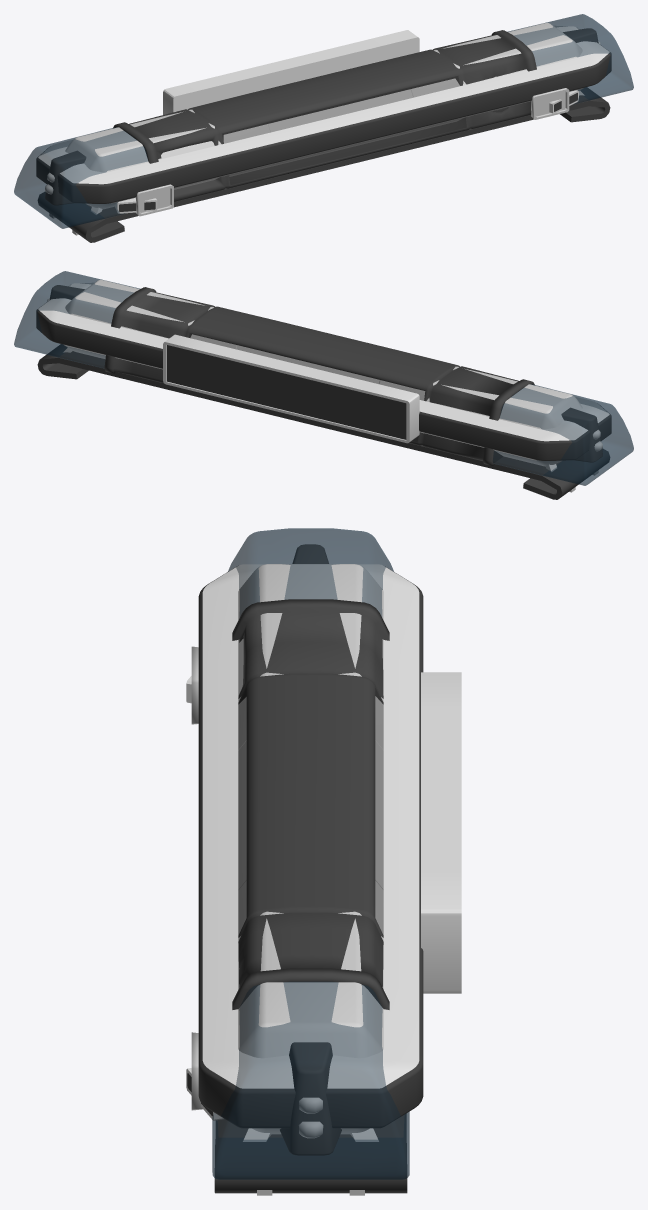
File: lighbars.dae
3 views of the same model, one above another, from view 1: azimuth 30°, elevation 25°; view 2: azimuth 150°, elevation 25°; view 3: azimuth 270°, elevation 25° (orthographic). The views are drawn at different scales.
Parts seen in each view (by area): view 1: eur_lightbar, mod_lightbar_a, eur_lightbar_blueglass, mod_lightbar_b, old_blue_r, old_blue_l, old_lightbar_b, old_lightbar_a, mod_lightbar_mini; view 2: eur_lightbar, mod_lightbar_a, eur_lightbar_blueglass, mod_lightbar_b, old_blue_r, old_blue_l, old_lightbar_b; view 3: eur_lightbar, mod_lightbar_b, eur_lightbar_blueglass, mod_lightbar_a, old_blue_l, old_blue_r, old_lightbar_b, old_lightbar_a.
Part boxes in pixels (x1=…): eur_lightbar: x1=38, y1=28, x2=610, y2=242; mod_lightbar_a: x1=37, y1=27, x2=611, y2=203; eur_lightbar_blueglass: x1=14, y1=14, x2=633, y2=228; mod_lightbar_b: x1=36, y1=26, x2=611, y2=203; old_blue_r: x1=65, y1=109, x2=270, y2=212; old_blue_l: x1=411, y1=23, x2=582, y2=116; old_lightbar_b: x1=49, y1=88, x2=583, y2=235; old_lightbar_a: x1=135, y1=88, x2=569, y2=216; mod_lightbar_mini: x1=115, y1=90, x2=578, y2=213; eur_lightbar: x1=37, y1=285, x2=609, y2=499; mod_lightbar_a: x1=37, y1=284, x2=611, y2=460; eur_lightbar_blueglass: x1=14, y1=271, x2=633, y2=485; mod_lightbar_b: x1=36, y1=283, x2=611, y2=460; old_blue_r: x1=379, y1=366, x2=582, y2=429; old_blue_l: x1=65, y1=280, x2=237, y2=349; old_lightbar_b: x1=64, y1=345, x2=598, y2=492; eur_lightbar: x1=214, y1=544, x2=407, y2=1193; mod_lightbar_b: x1=199, y1=564, x2=423, y2=1127; eur_lightbar_blueglass: x1=212, y1=528, x2=409, y2=1179; mod_lightbar_a: x1=198, y1=571, x2=461, y2=1128; old_blue_l: x1=238, y1=880, x2=383, y2=1058; old_blue_r: x1=238, y1=564, x2=383, y2=750; old_lightbar_b: x1=238, y1=741, x2=383, y2=1195; old_lightbar_a: x1=191, y1=646, x2=202, y2=1110.
Size of the model in its own units: 1.05 by 0.2181 by 0.1379.
